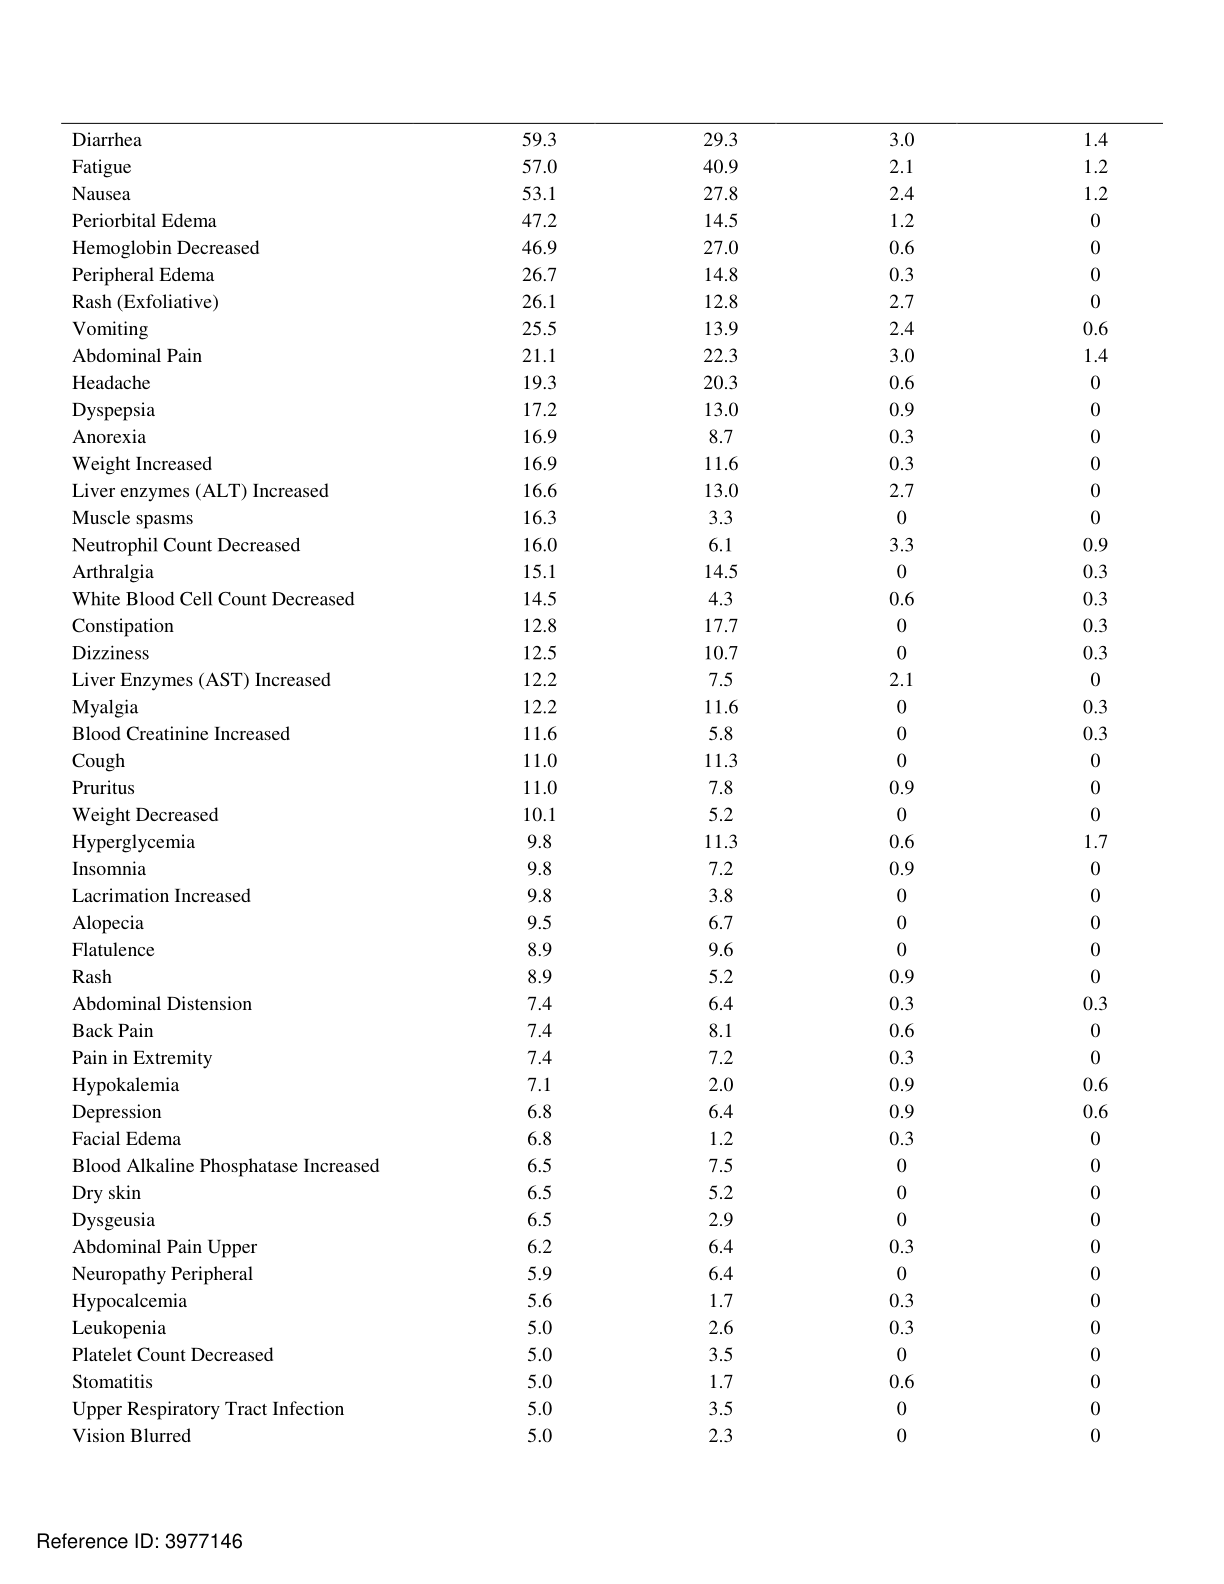partial_lined: (60, 120, 1164, 1452)
